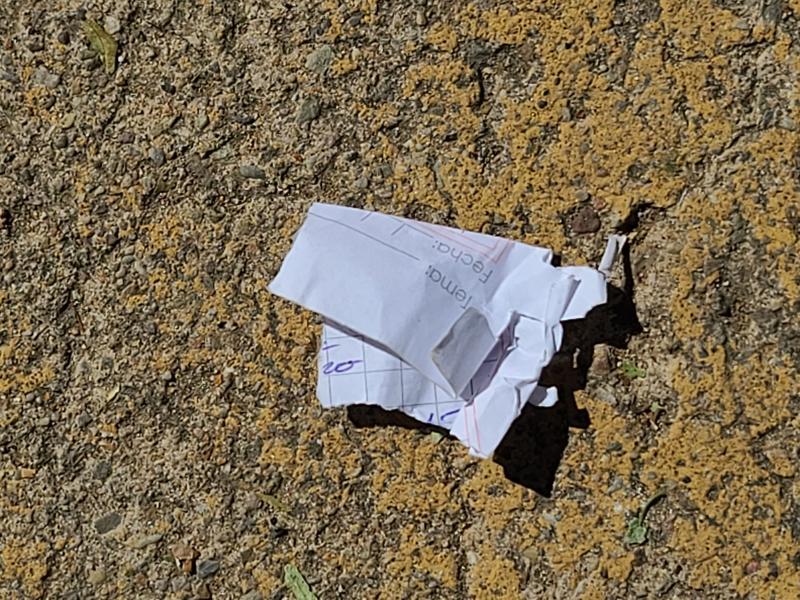papel: (267, 204, 626, 460)
